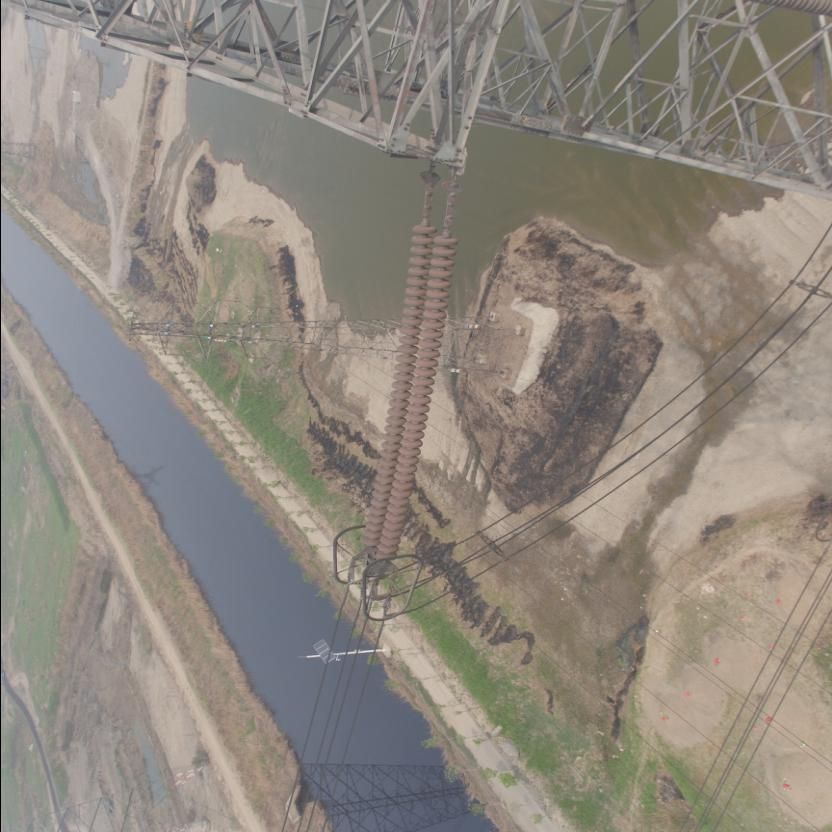insulator: (350, 206, 456, 568)
